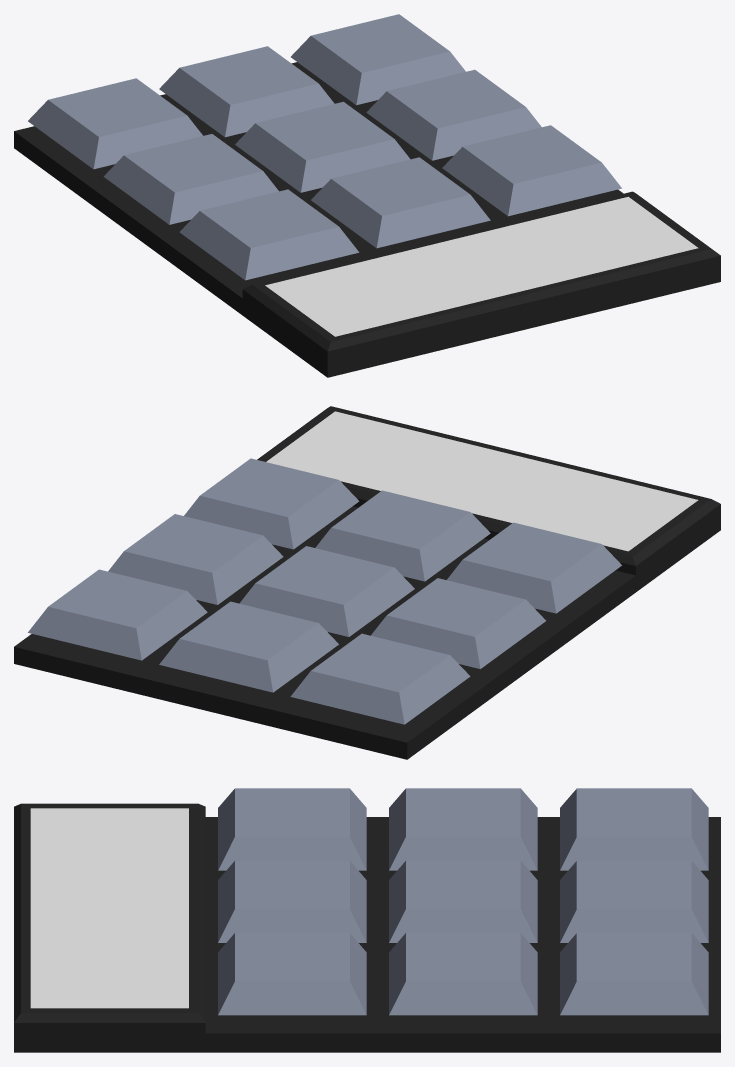
Rendered from keypad.glb.
The picture shows the model from 3 angles, top to bottom: view 1: azimuth 30°, elevation 25°; view 2: azimuth 150°, elevation 25°; view 3: azimuth 270°, elevation 25°; orthographic projection. The views are drawn at different scales.
Visible parts, largest first — view 1: Frame, Screen, Button8, Button9, Button7, Button6, Button1, Button2, Button3, Button5, Button4; view 2: Frame, Screen, Button1, Button3, Button2, Button8, Button6, Button7, Button9, Button4, Button5; view 3: Frame, Screen, Button1, Button4, Button7, Button3, Button6, Button9, Button5, Button8, Button2.
Part boxes in pixels (left/top/right/bottom): Frame: left=14, top=62, right=720, bottom=377; Screen: left=265, top=196, right=698, bottom=336; Button8: left=311, top=157, right=490, bottom=248; Button9: left=179, top=189, right=359, bottom=280; Button7: left=442, top=125, right=621, bottom=216; Button6: left=103, top=134, right=278, bottom=224; Button1: left=291, top=14, right=465, bottom=105; Button2: left=159, top=46, right=334, bottom=137; Button3: left=28, top=78, right=202, bottom=169; Button5: left=235, top=101, right=410, bottom=192; Button4: left=366, top=69, right=541, bottom=160; Frame: left=14, top=406, right=720, bottom=759; Screen: left=266, top=411, right=698, bottom=551; Button1: left=28, top=569, right=207, bottom=660; Button3: left=290, top=633, right=470, bottom=724; Button2: left=159, top=601, right=338, bottom=692; Button8: left=315, top=490, right=490, bottom=581; Button6: left=371, top=578, right=545, bottom=668; Button7: left=184, top=458, right=359, bottom=549; Button9: left=447, top=522, right=621, bottom=613; Button4: left=108, top=514, right=283, bottom=604; Button5: left=239, top=546, right=414, bottom=636; Frame: left=14, top=803, right=720, bottom=1052; Screen: left=30, top=808, right=188, bottom=1008; Button1: left=560, top=933, right=708, bottom=1015; Button4: left=389, top=933, right=537, bottom=1015; Button7: left=218, top=933, right=366, bottom=1015; Button3: left=560, top=788, right=708, bottom=870; Button6: left=389, top=788, right=537, bottom=870; Button9: left=218, top=788, right=366, bottom=870; Button5: left=389, top=860, right=537, bottom=942; Button8: left=218, top=860, right=366, bottom=942; Button2: left=560, top=860, right=708, bottom=942.
Bounding box in the file's own units: 0.2301 × 0.0295 × 0.3179.
